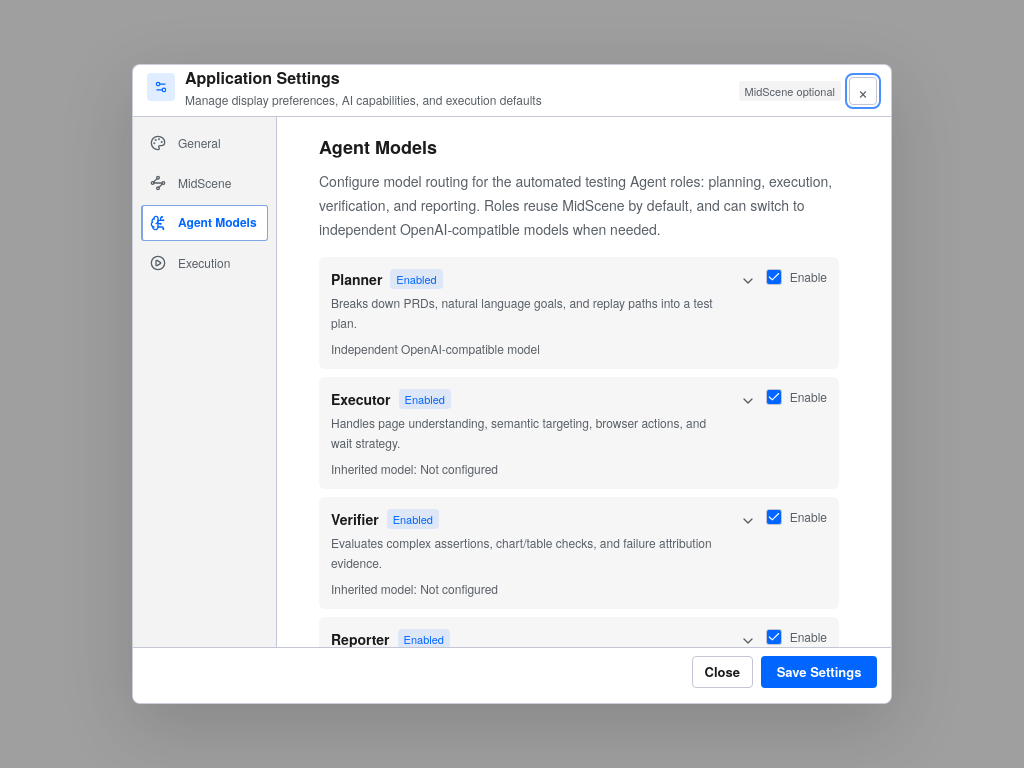
SettingsModal › translates independent Agent model field labels to English
The width and height of the screenshot is (1024, 768).
Click the button "Planner": (543, 313) x1=331 y1=269 x2=756 y2=357
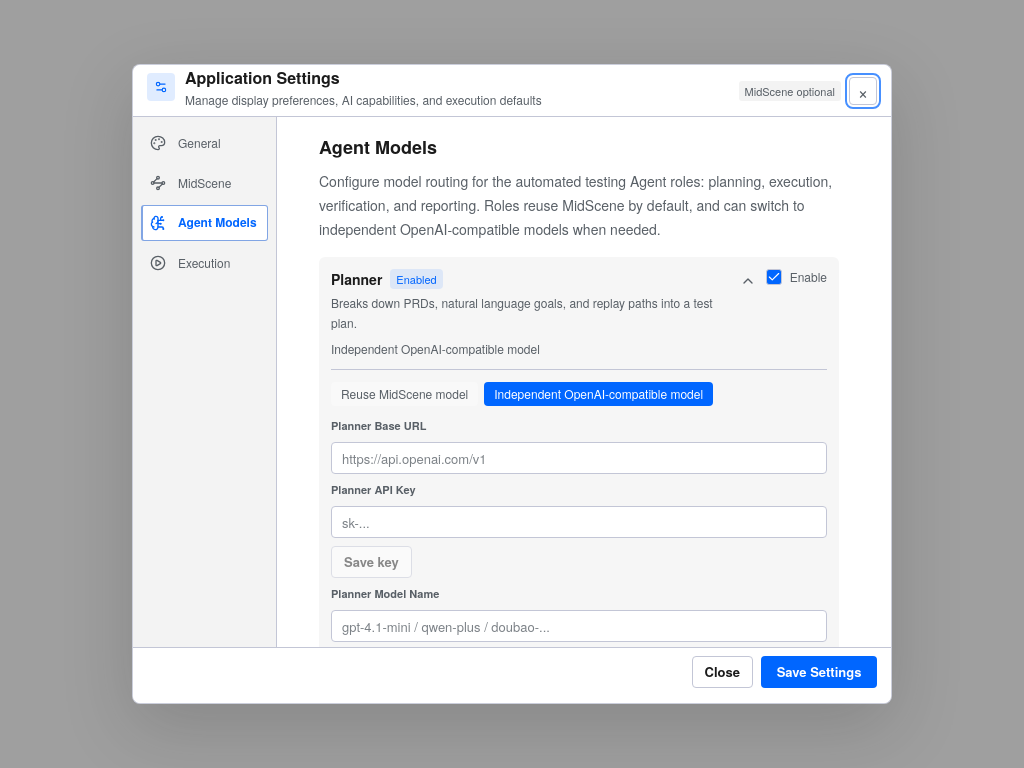
Expected: the field labelled "Planner Model Name" is shown, x1=331 y1=610 x2=827 y2=642
